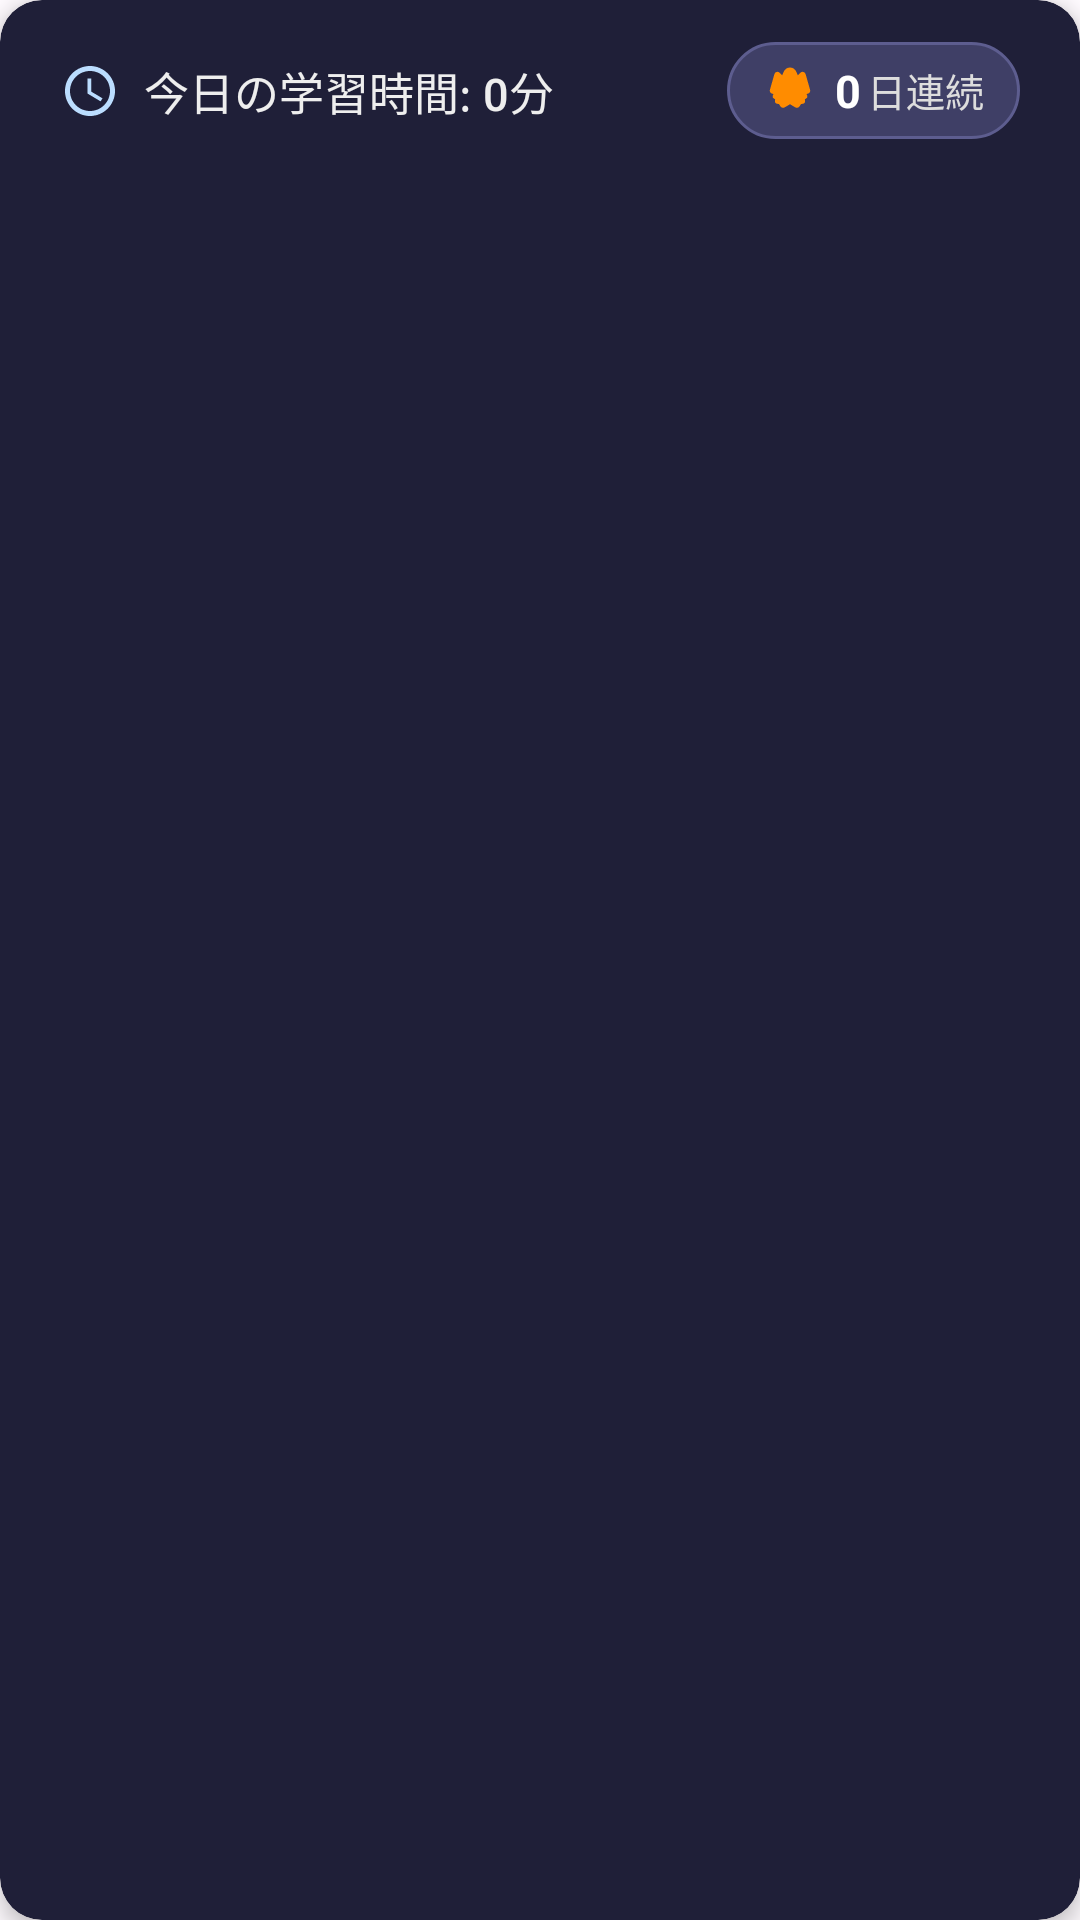

Where icons sit on this 1080w x 1920h app screen, as Rect(x1, y1, x2, y2):
Clock icon: Rect(65, 66, 115, 116)
Fire streak: Rect(769, 67, 811, 108)
